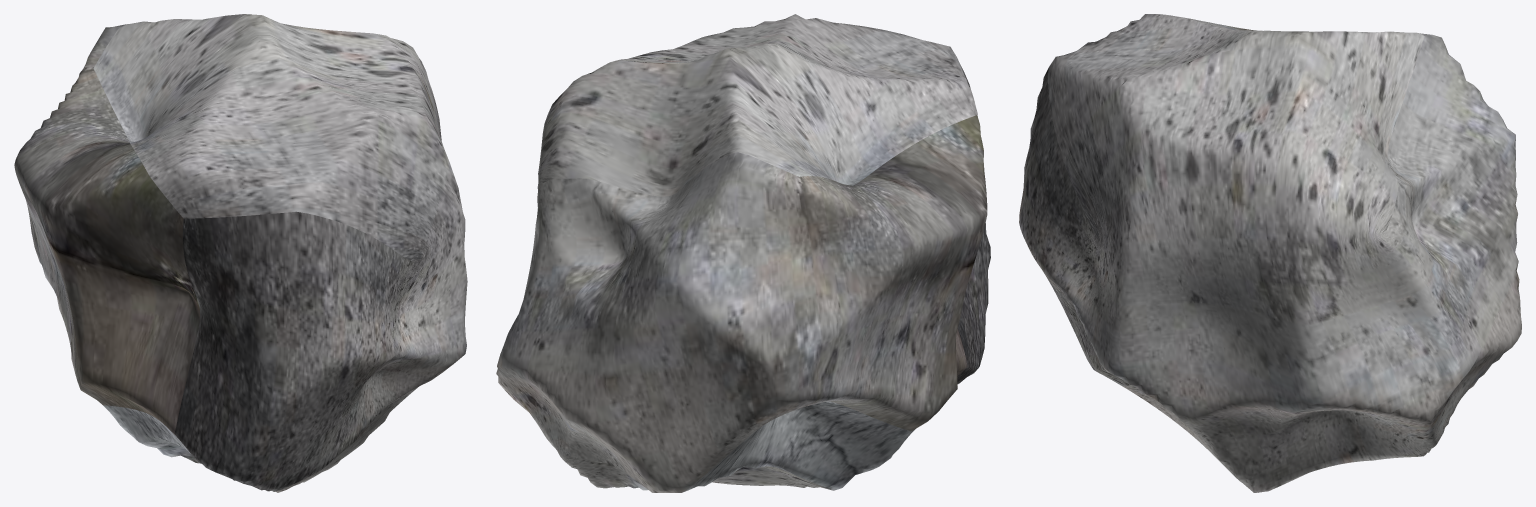
Rendered from asteroide2.obj.
3 renders of one model, left to right at view 1: azimuth 30°, elevation 25°; view 2: azimuth 150°, elevation 25°; view 3: azimuth 270°, elevation 25°, orthographic. The views are drawn at different scales.
Parts seen in each view (by area): view 1: Cube.002; view 2: Cube.002; view 3: Cube.002.
Boxes of the visible parts, bbox=[...] form: Cube.002: bbox=[14, 14, 467, 492]; Cube.002: bbox=[496, 14, 990, 492]; Cube.002: bbox=[1019, 14, 1521, 492].
Bounding box in the file's own units: 2.49 × 2.55 × 2.65.
